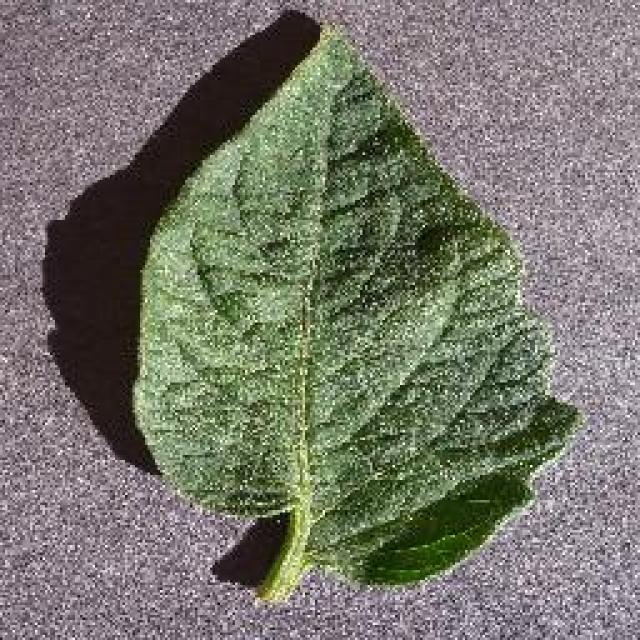Tomato___healthy: (138, 22, 585, 615)
